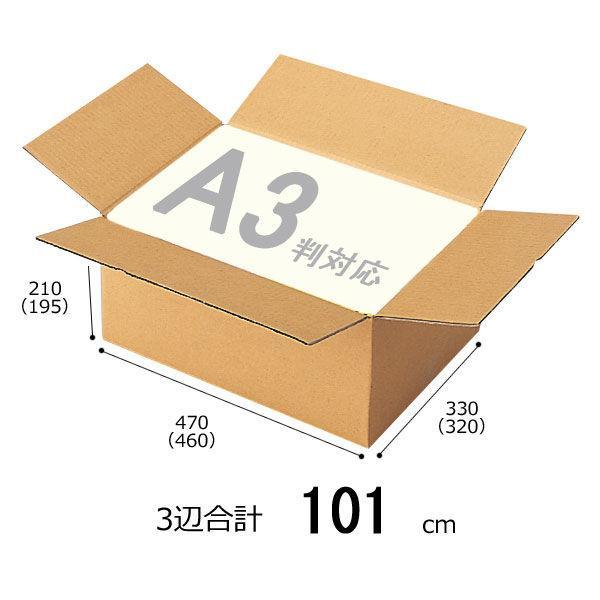box: (27, 59, 586, 455)
